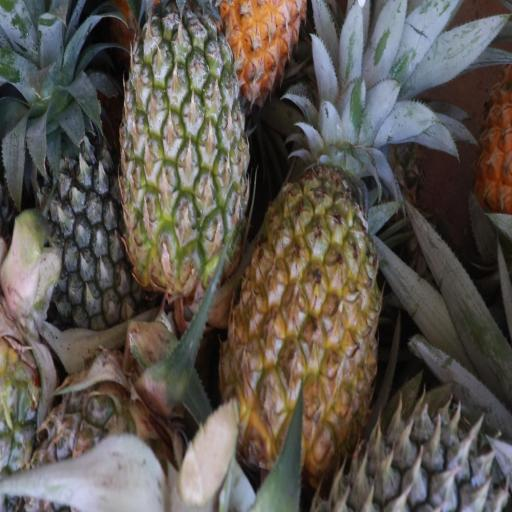------------------------------: (118, 11, 247, 297)
Pineapple - v8 v1: (225, 36, 379, 483)
